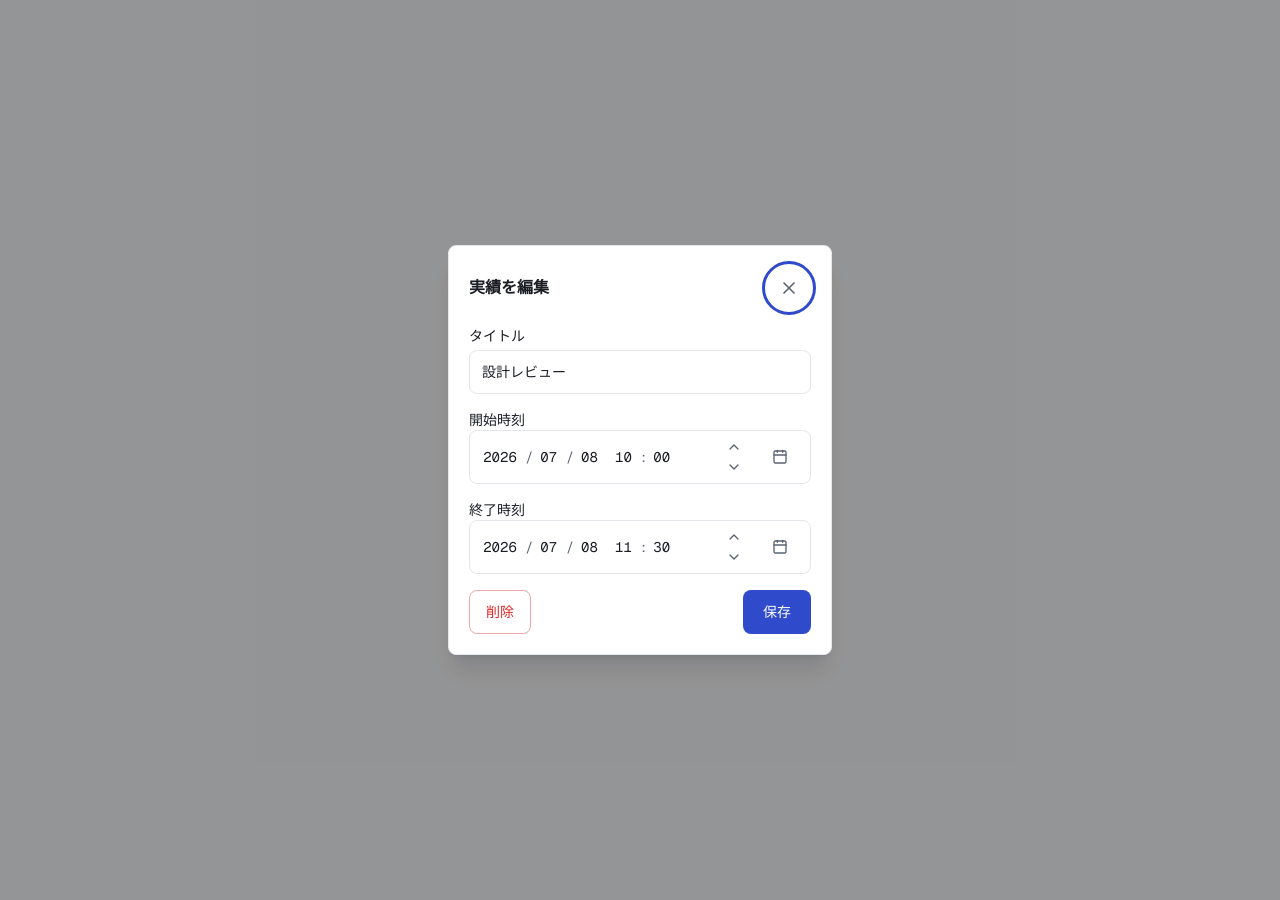
Test: EditEntryPanel › S6: 開始・終了が未入力だと保存できずエラーが表示される
Clear the date field labelled "開始時刻 / / :": (640, 447) [469,410,811,484]
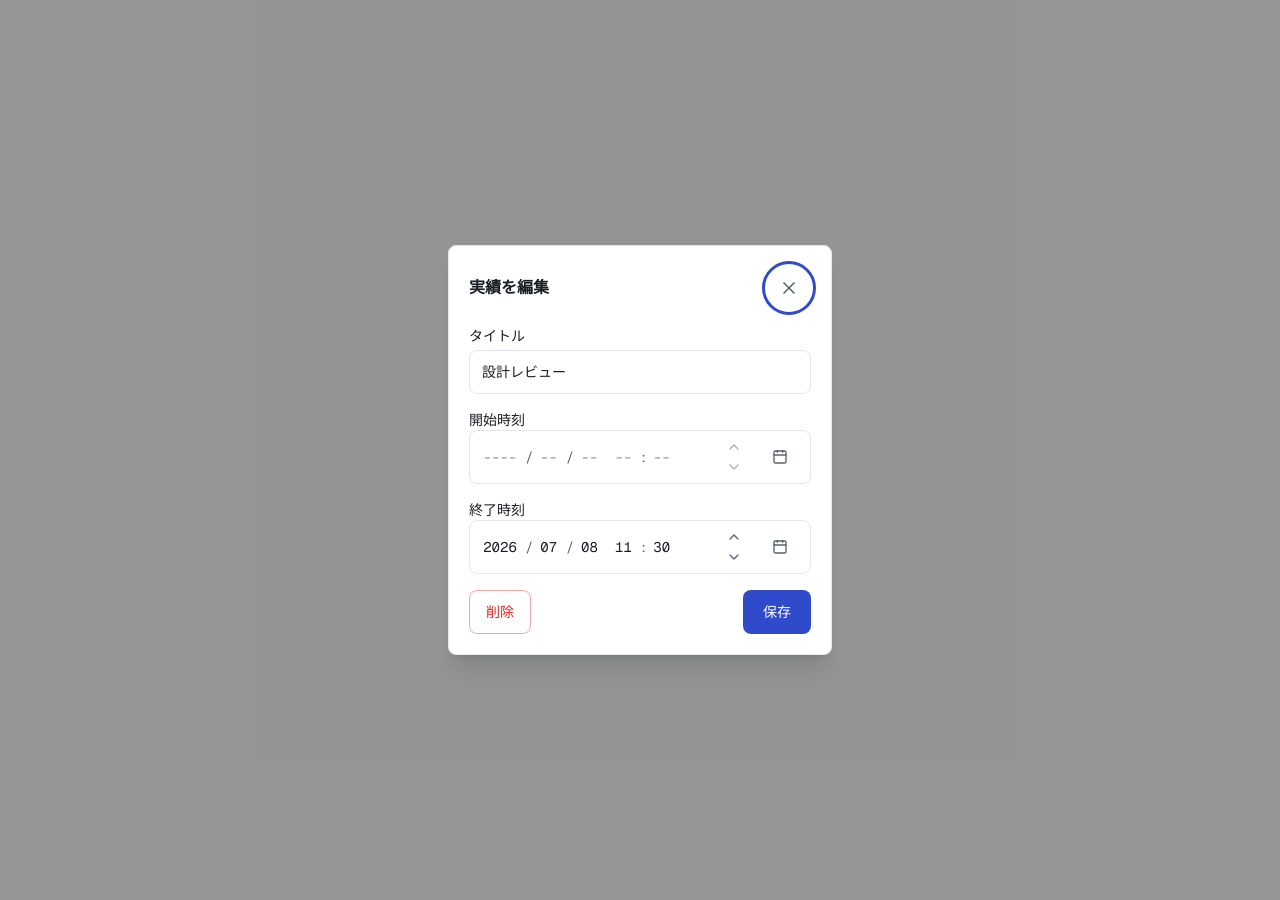
Click the button "保存": (777, 612) [743,590,811,634]
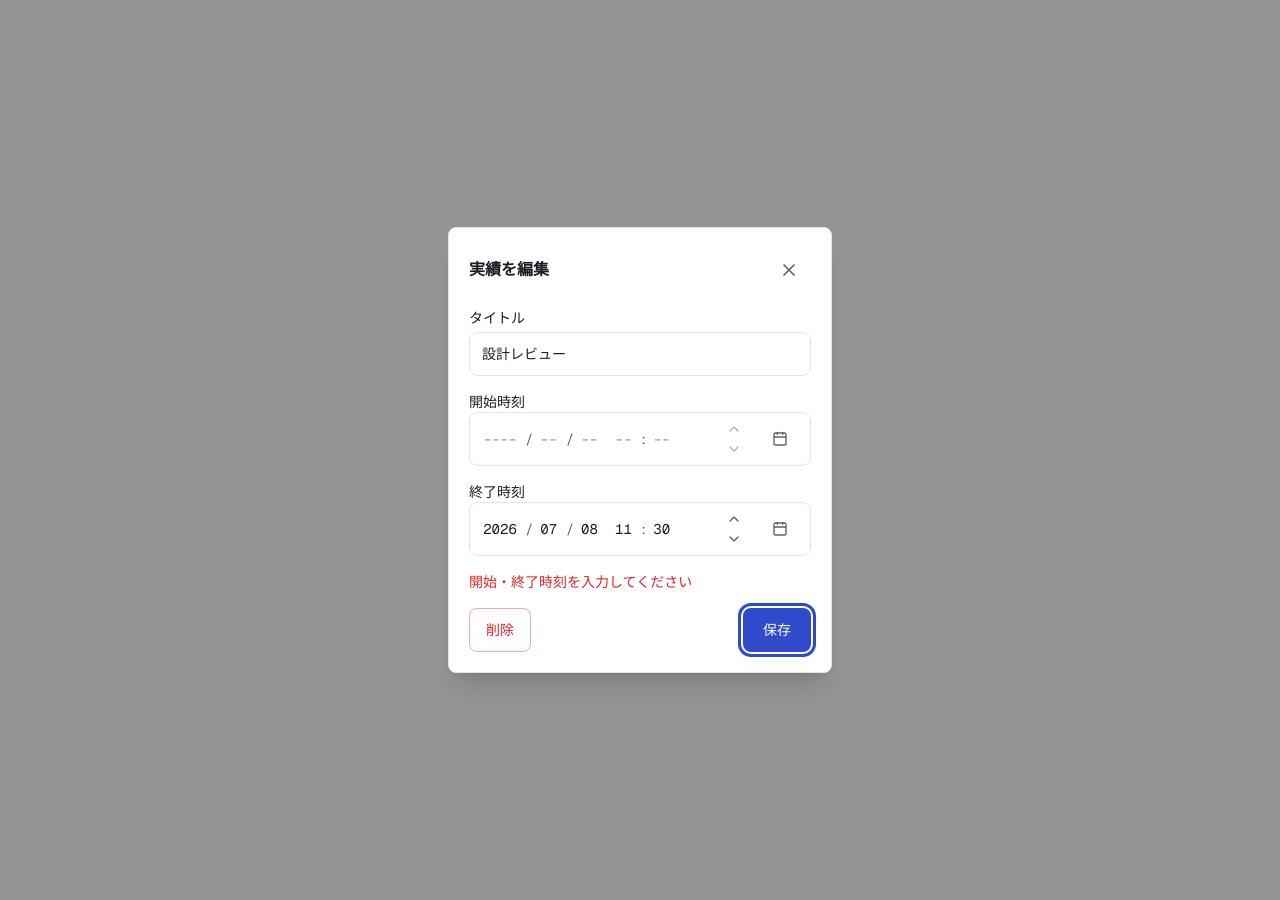
Result: the text "開始・終了時刻を入力してください" is shown at [469,573,692,591]
